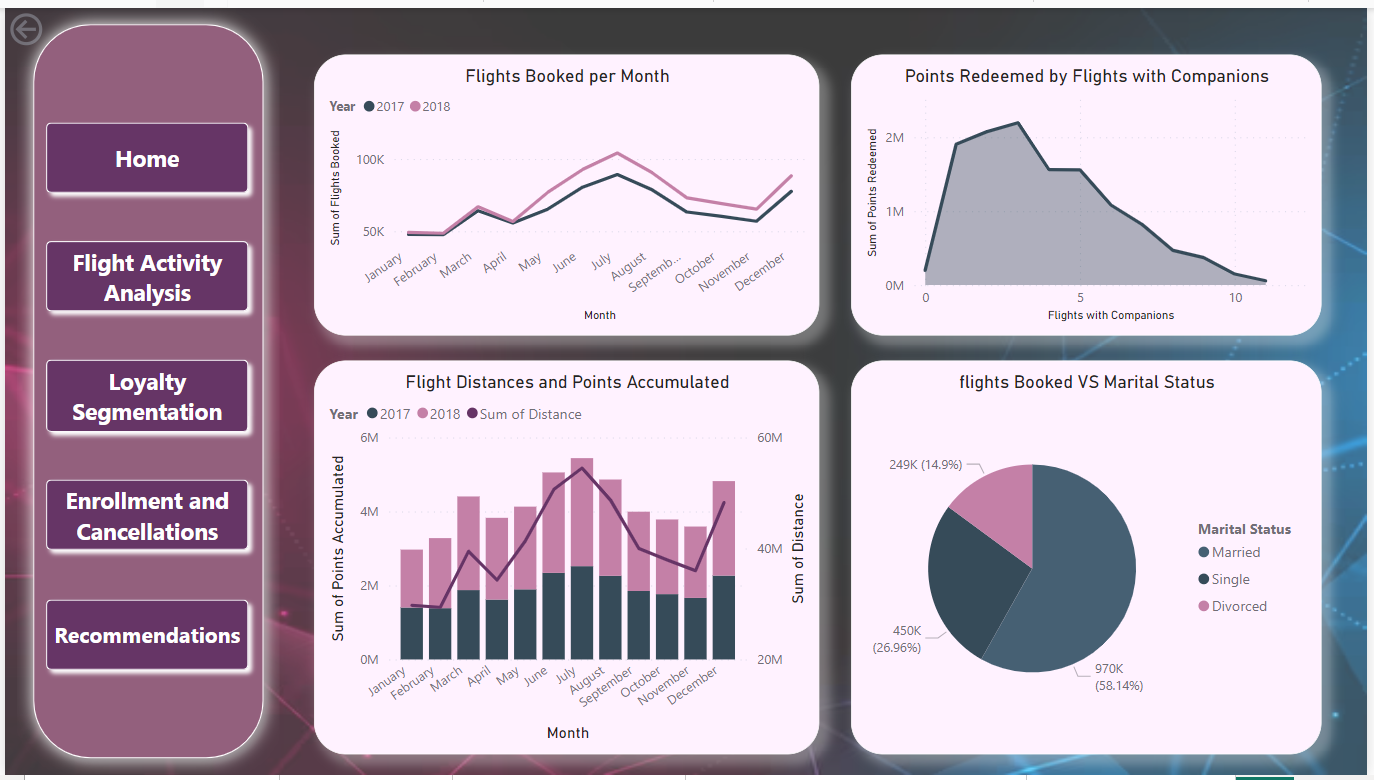

The dashboard page shown, as its layout file describes it:
{"tool":"powerbi","page":{"name":"Flight Activity ","canvas":[1280,720],"ordinal":1},"visuals":[{"type":"actionButton","box":[0,0,100,40],"z":0},{"type":"lineChart","title":"Flights Booked per Month","fields":{"Y":["Sum(Customer Flight Activity.Flights Booked)"],"Category":["Customer Flight Activity.Month Name.Variation.Date Hierarchy.Month"],"Series":["Customer Flight Activity.Year"]},"box":[290.5,43.7,474.8,263.9],"z":1000},{"type":"lineStackedColumnComboChart","title":"Flight Distances and Points Accumulated","fields":{"Y2":["Sum(Customer Flight Activity.Distance)"],"Y":["Sum(Customer Flight Activity.Points Accumulated)"],"Category":["Customer Flight Activity.Month Name.Variation.Date Hierarchy.Month"],"Series":["Customer Flight Activity.Year"]},"box":[290.5,331.1,474.8,370.2],"z":2000},{"type":"areaChart","title":"Points Redeemed by Flights with Companions","fields":{"Category":["Customer Flight Activity.Flights with Companions"],"Y":["Sum(Customer Flight Activity.Points Redeemed)"]},"box":[795,43.7,442,263.9],"z":3000},{"type":"pieChart","title":"flights Booked VS Marital Status","fields":{"Category":["Customer Loyalty History.Marital Status"],"Y":["Sum(Customer Flight Activity.Flights Booked)"]},"box":[795,331.1,442,370.2],"z":4000},{"type":"shape","box":[10.9,0,246.8,720],"z":5000},{"type":"shape","box":[30,209.5,208,84],"z":5001},{"type":"shape","box":[30,434.5,208,84],"z":5002},{"type":"shape","box":[30,321,208,86],"z":5003},{"type":"shape","box":[30,546,208,84],"z":5004},{"type":"shape","box":[30,98,208,84],"z":5005}]}

Visuals, with their boxes in screenshot pixels (x1, y1, x2, y2), scaled from the page's 1280x720 canvas onto the 1374x780 screenshot:
actionButton: x1=0, y1=0, x2=107, y2=43
"Flights Booked per Month" lineChart: x1=312, y1=47, x2=822, y2=333
"Flight Distances and Points Accumulated" lineStackedColumnComboChart: x1=312, y1=359, x2=822, y2=760
"Points Redeemed by Flights with Companions" areaChart: x1=853, y1=47, x2=1328, y2=333
"flights Booked VS Marital Status" pieChart: x1=853, y1=359, x2=1328, y2=760
shape: x1=12, y1=0, x2=277, y2=779
shape: x1=32, y1=227, x2=255, y2=318
shape: x1=32, y1=471, x2=255, y2=562
shape: x1=32, y1=348, x2=255, y2=441
shape: x1=32, y1=592, x2=255, y2=682
shape: x1=32, y1=106, x2=255, y2=197
